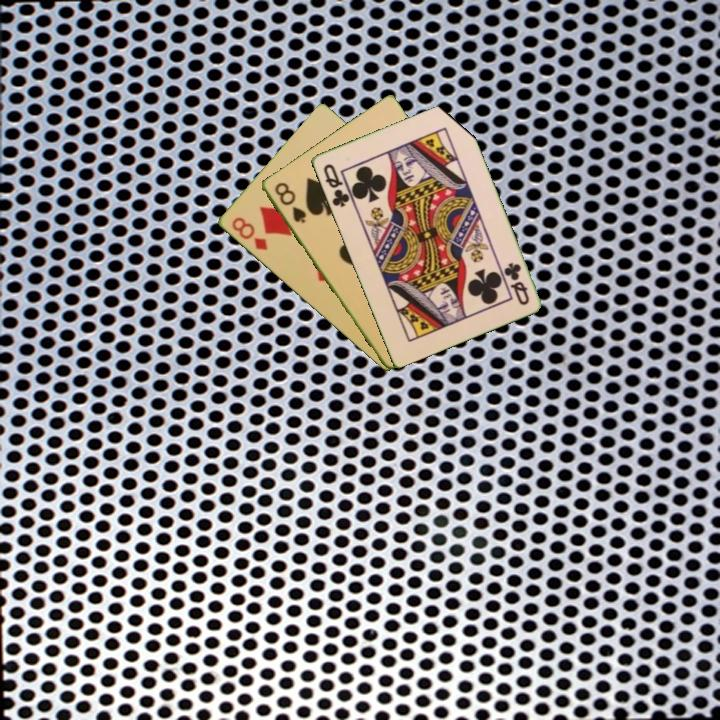8d: (228, 213, 270, 253)
8s: (271, 178, 309, 226)
Qc: (319, 160, 352, 210), (500, 259, 532, 308)
